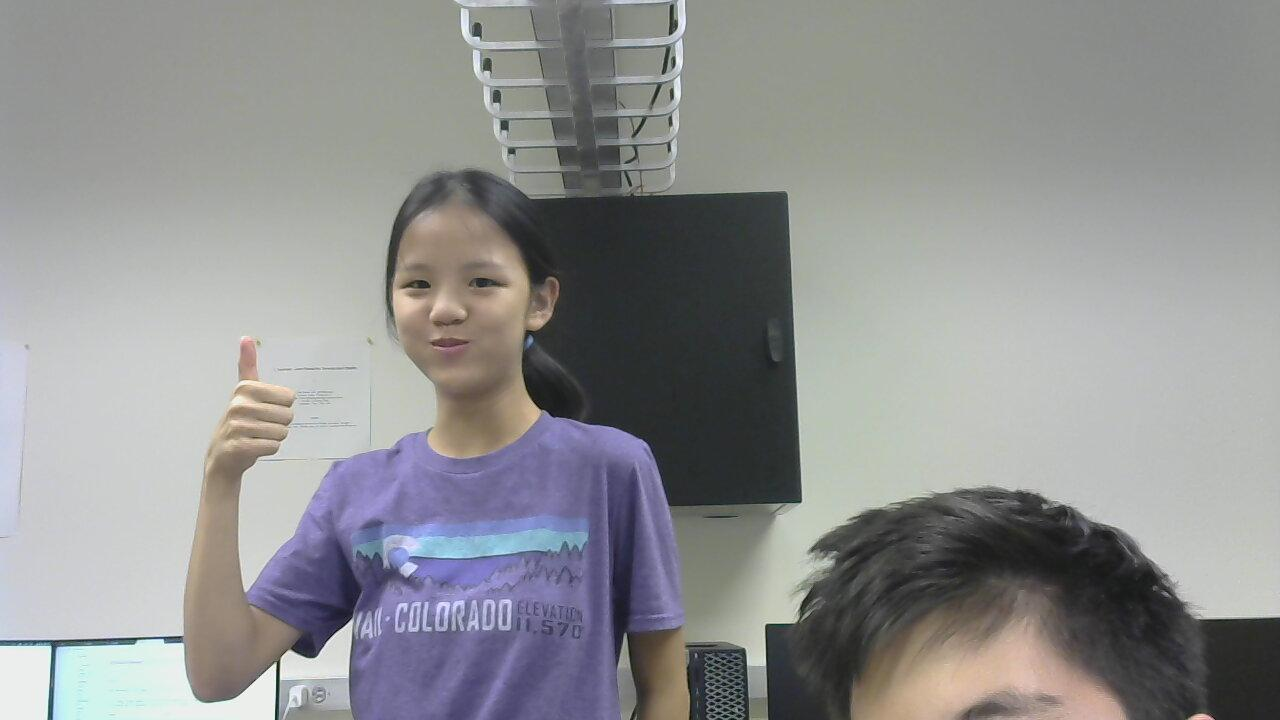hands: (206, 324, 309, 485)
